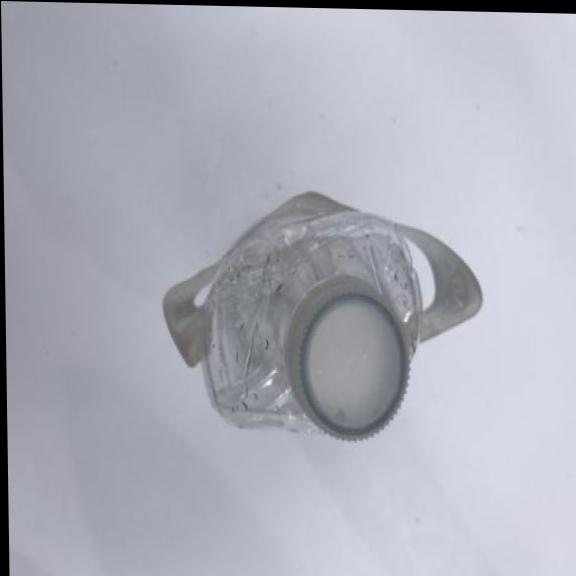Plastik: (155, 182, 484, 448)
